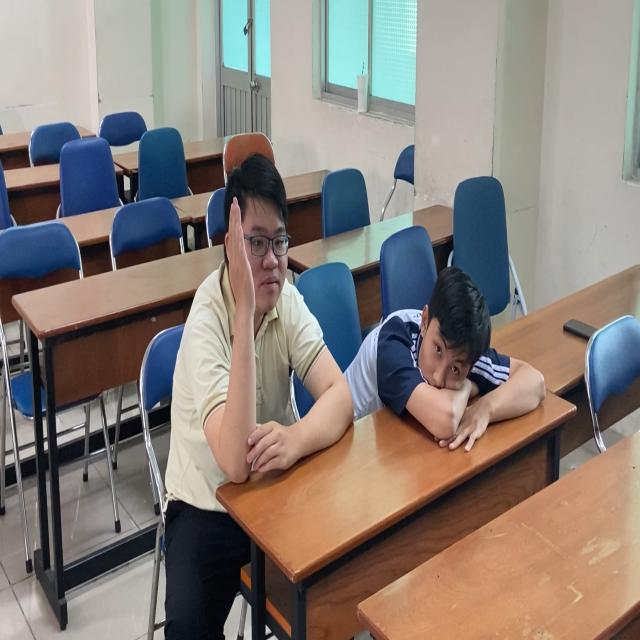raise_hand: (167, 149, 341, 505)
sleep: (360, 263, 556, 447)
